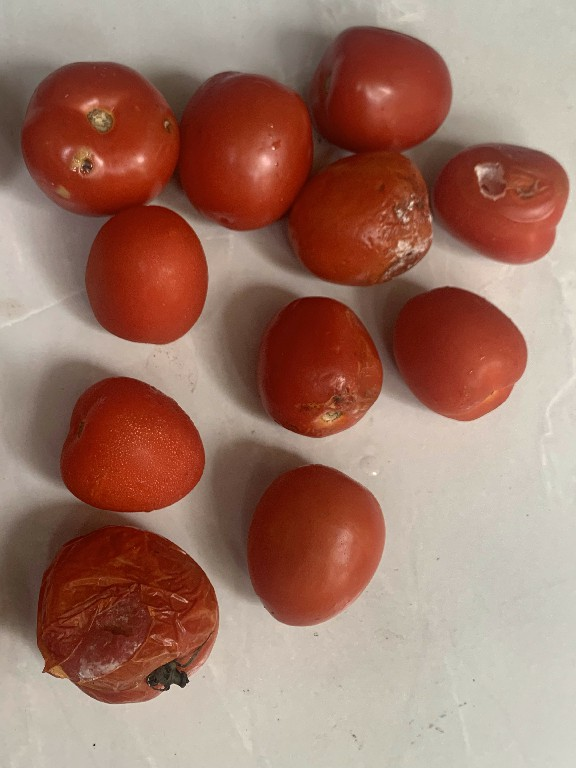NG: (29, 523, 222, 703), (19, 59, 183, 210), (255, 288, 388, 442), (287, 150, 435, 287), (434, 138, 573, 265)
OK: (243, 458, 392, 634), (177, 67, 316, 233), (388, 269, 533, 422), (59, 372, 210, 516), (83, 196, 212, 349), (308, 20, 457, 149)
